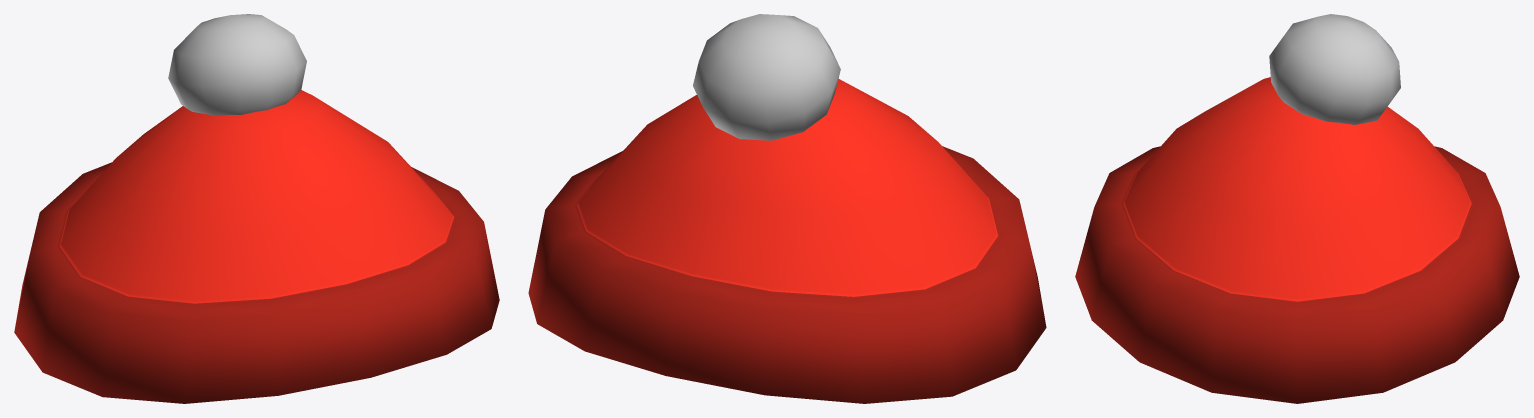
The picture shows the model from 3 angles, left to right: view 1: azimuth 30°, elevation 25°; view 2: azimuth 150°, elevation 25°; view 3: azimuth 270°, elevation 25°; orthographic projection. The views are drawn at different scales.
Visible parts, largest first — view 1: Cylinder271; view 2: Cylinder271; view 3: Cylinder271.
Boxes of the visible parts, x1,y1,x2,y2 form: Cylinder271: (14,14,499,403); Cylinder271: (528,14,1046,403); Cylinder271: (1075,14,1519,403).
Bounding box in the file's own units: 47.67 × 31.27 × 43.96.
